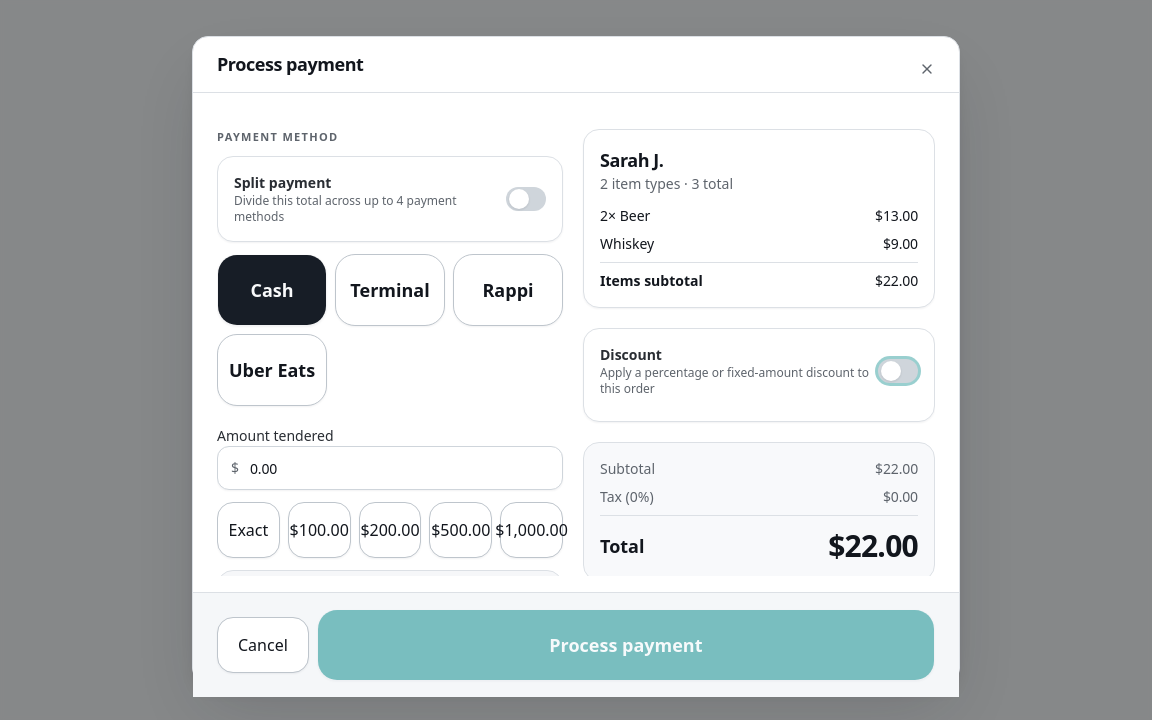
Scenario: PaymentModal › prints without opening drawer after card payment
This screenshot has width=1152, height=720.
What coordinates should you click on to do the following:
click the button with test id "payment-btn-card"
I would click on:
 (390, 290)
Its box is [335,254,445,326].
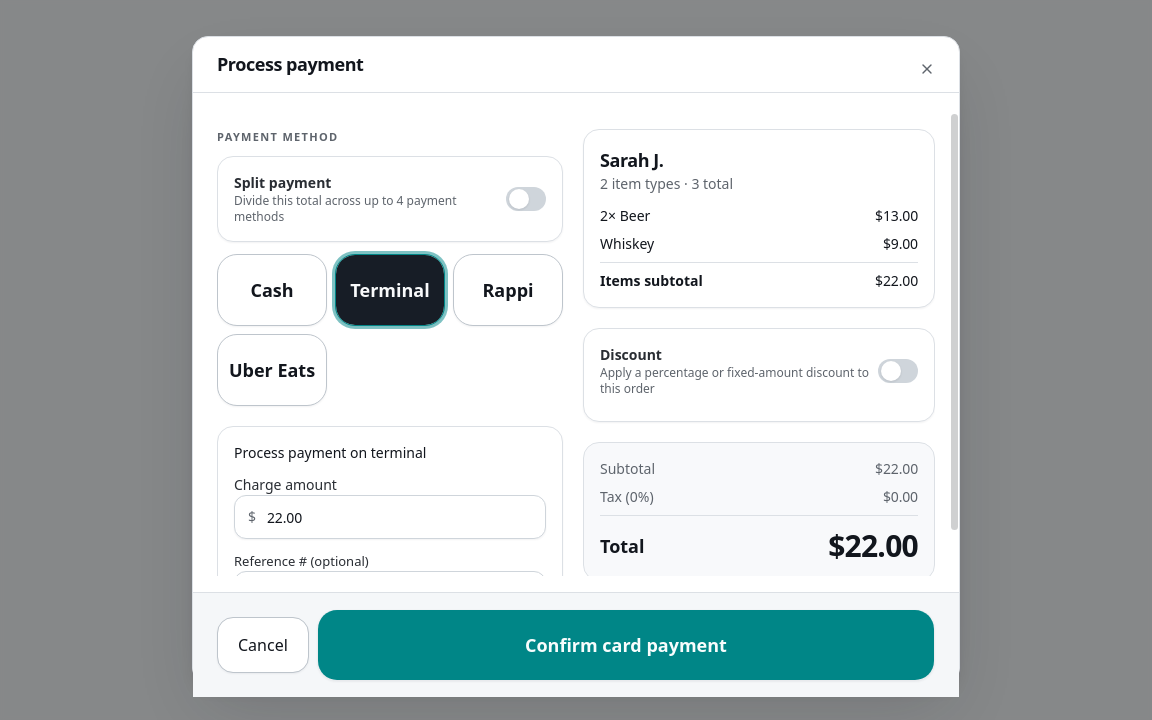
What coordinates should you click on to do the following:
click the button "Confirm card payment"
I would click on:
 (626, 644)
Its box is [317,608,935,680].
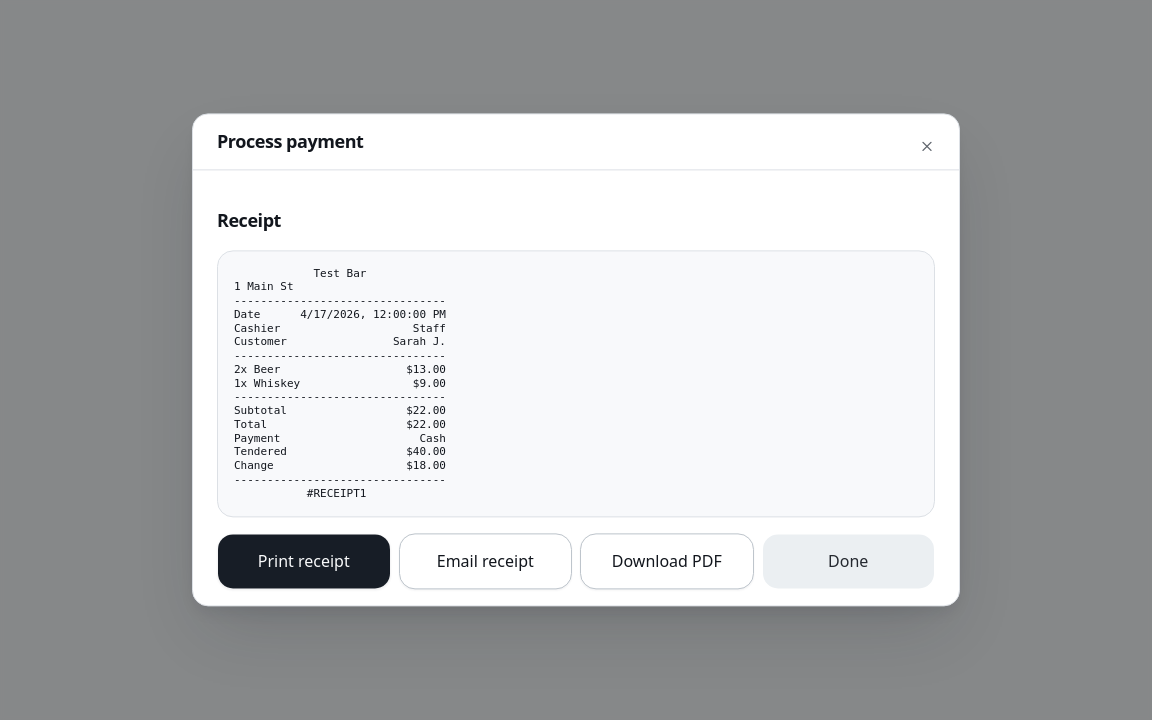
Result: the heading "Receipt" is shown at [217,208,281,232]
